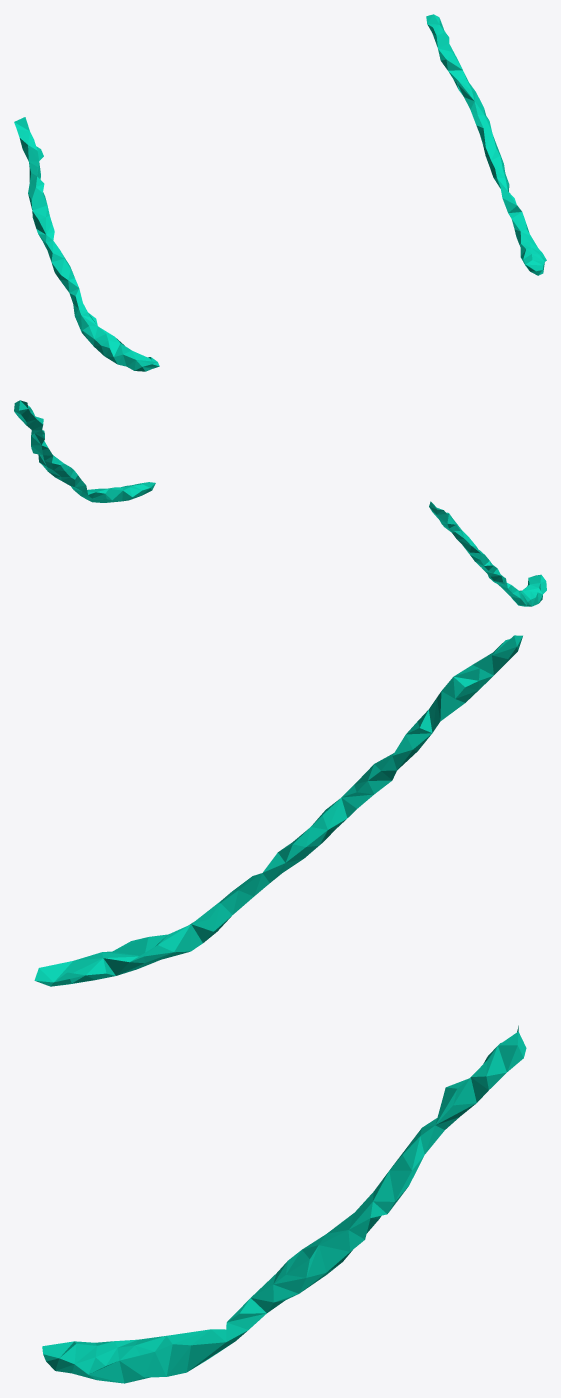
File: 26-ProS-prosubiculum-('0.0000', '1.0000', '0.8431').obj
3 renders of one model, top to bottom at view 1: azimuth 30°, elevation 25°; view 2: azimuth 150°, elevation 25°; view 3: azimuth 270°, elevation 25°, orthographic. The views are drawn at different scales.
Bounding box in the file's own units: 174 × 64.16 × 81.85.
